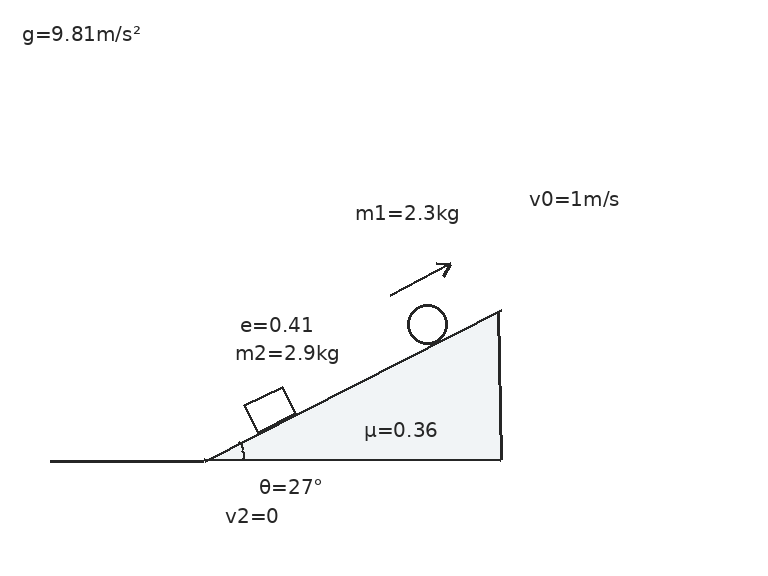ball: (405, 302, 449, 346)
block: (242, 384, 297, 434)
ramp: (202, 307, 502, 462)
